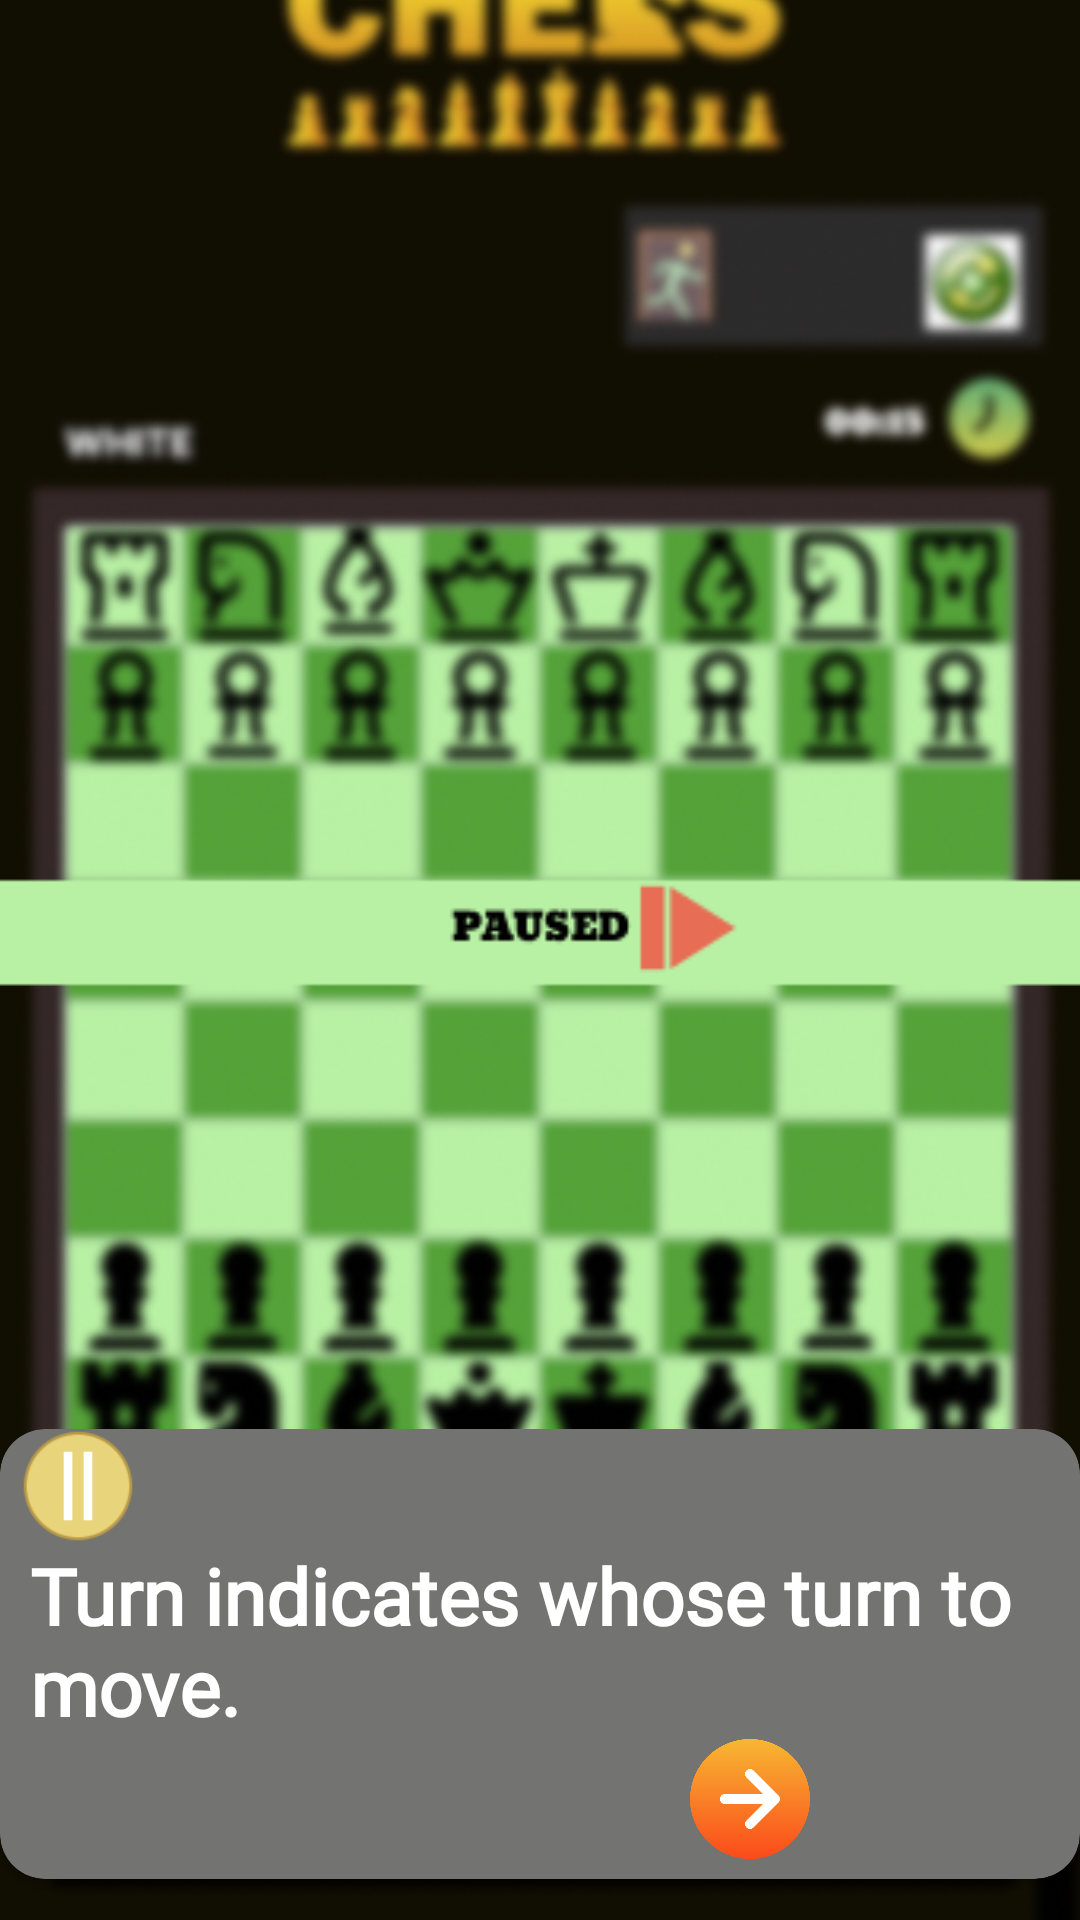

Where to tap for icons on this 1080px x 1920px app screen, as [x,y]:
forwd: [750,1799]
